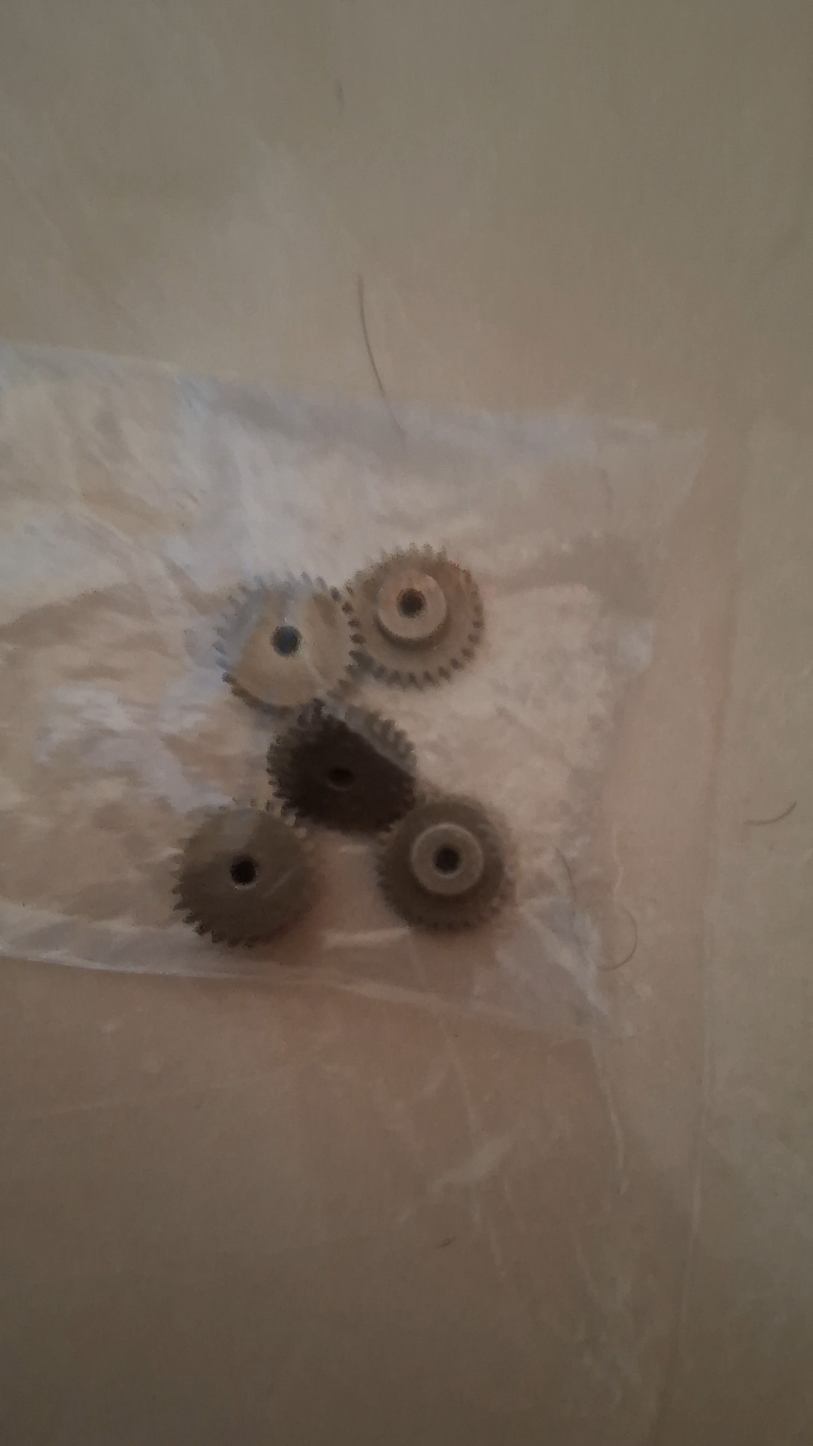spur gear: (217, 576, 361, 714), (175, 806, 314, 944), (268, 702, 415, 832), (348, 547, 483, 686), (378, 796, 509, 929)
